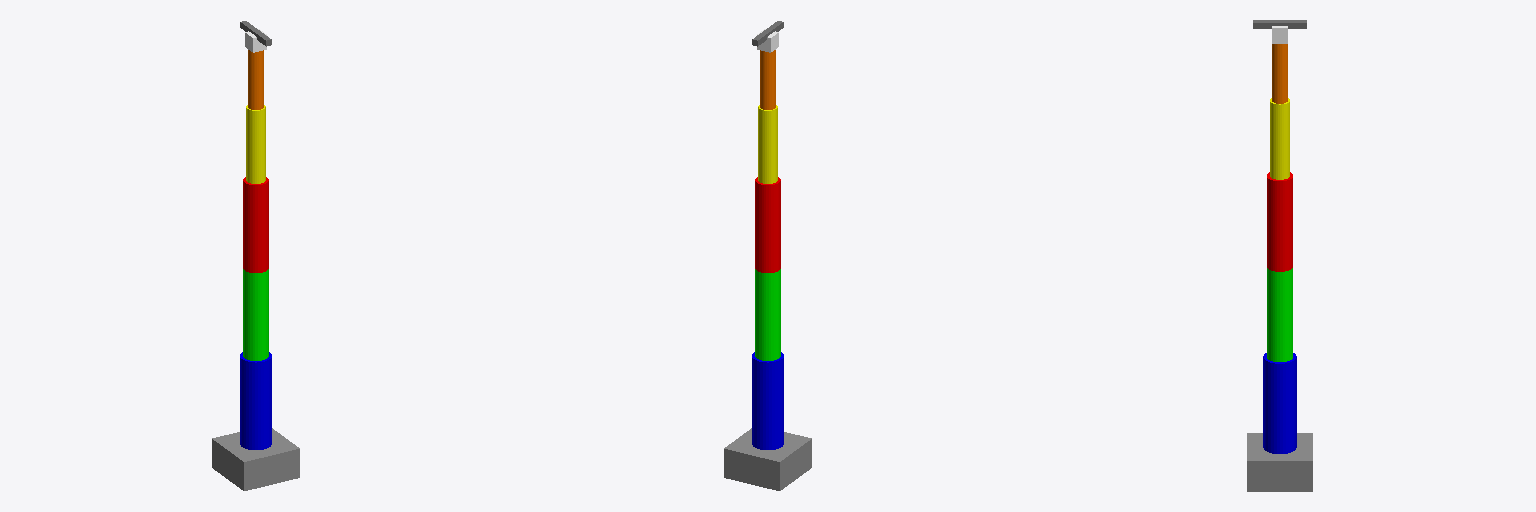
URDF robot description (six_dof_arm):
<?xml version="1.0"?>
<robot name="six_dof_arm">

  <!-- Base link -->
  <link name="base_link">
    <visual>
      <origin xyz="0 0 0.05"/>
      <geometry><box size="0.2 0.2 0.1"/></geometry>
      <material name="grey"><color rgba="0.6 0.6 0.6 1.0"/></material>
    </visual>
    <collision>
      <origin xyz="0 0 0.05"/>
      <geometry><box size="0.2 0.2 0.1"/></geometry>
    </collision>
    <inertial><mass value="1.0"/><inertia ixx="0.01" iyy="0.01" izz="0.01" ixy="0" ixz="0" iyz="0"/></inertial>
  </link>

  <!-- Joint 1: Prismatic -->
  <joint name="joint1_prismatic" type="prismatic">
    <parent link="base_link"/>
    <child link="link1"/>
    <axis xyz="0 0 1"/>
    <limit lower="0.0" upper="0.5" effort="10.0" velocity="0.2"/>
    <origin xyz="0 0 0.1"/>
  </joint>

  <link name="link1">
    <visual>
      <origin xyz="0 0 0.15"/>
      <geometry><cylinder radius="0.05" length="0.3"/></geometry>
      <material name="blue"><color rgba="0 0 1 1"/></material>
    </visual>
    <collision>
      <origin xyz="0 0 0.15"/>
      <geometry><cylinder radius="0.05" length="0.3"/></geometry>
    </collision>
    <inertial><mass value="0.5"/><inertia ixx="0.01" iyy="0.01" izz="0.01" ixy="0" ixz="0" iyz="0"/></inertial>
  </link>

  <!-- Joint 2 -->
  <joint name="joint2_revolute" type="revolute">
    <parent link="link1"/>
    <child link="link2"/>
    <axis xyz="0 1 0"/>
    <limit lower="-1.57" upper="1.57" effort="5.0" velocity="1.0"/>
    <origin xyz="0 0 0.3"/>
  </joint>

  <link name="link2">
    <visual>
      <origin xyz="0 0 0.15"/>
      <geometry><cylinder radius="0.04" length="0.3"/></geometry>
      <material name="green"><color rgba="0 1 0 1"/></material>
    </visual>
    <collision>
      <origin xyz="0 0 0.15"/>
      <geometry><cylinder radius="0.04" length="0.3"/></geometry>
    </collision>
    <inertial><mass value="0.4"/><inertia ixx="0.01" iyy="0.01" izz="0.01" ixy="0" ixz="0" iyz="0"/></inertial>
  </link>

  <!-- Joint 3 -->
  <joint name="joint3" type="revolute">
    <parent link="link2"/>
    <child link="link3"/>
    <axis xyz="0 1 0"/>
    <limit lower="-1.57" upper="1.57" effort="5.0" velocity="1.0"/>
    <origin xyz="0 0 0.3"/>
  </joint>

  <link name="link3">
    <visual>
      <origin xyz="0 0 0.15"/>
      <geometry><cylinder radius="0.04" length="0.3"/></geometry>
      <material name="red"><color rgba="1 0 0 1"/></material>
    </visual>
    <collision>
      <origin xyz="0 0 0.15"/>
      <geometry><cylinder radius="0.04" length="0.3"/></geometry>
    </collision>
    <inertial><mass value="0.4"/><inertia ixx="0.01" iyy="0.01" izz="0.01" ixy="0" ixz="0" iyz="0"/></inertial>
  </link>

  <!-- Joint 4 -->
  <joint name="joint4" type="revolute">
    <parent link="link3"/>
    <child link="link4"/>
    <axis xyz="1 0 0"/>
    <limit lower="-1.57" upper="1.57" effort="5.0" velocity="1.0"/>
    <origin xyz="0 0 0.3"/>
  </joint>

  <link name="link4">
    <visual>
      <origin xyz="0 0 0.125"/>
      <geometry><cylinder radius="0.03" length="0.25"/></geometry>
      <material name="yellow"><color rgba="1 1 0 1"/></material>
    </visual>
    <collision>
      <origin xyz="0 0 0.125"/>
      <geometry><cylinder radius="0.03" length="0.25"/></geometry>
    </collision>
    <inertial><mass value="0.3"/><inertia ixx="0.01" iyy="0.01" izz="0.01" ixy="0" ixz="0" iyz="0"/></inertial>
  </link>

  <!-- Joint 5 -->
  <joint name="joint5" type="revolute">
    <parent link="link4"/>
    <child link="link5"/>
    <axis xyz="0 1 0"/>
    <limit lower="-1.57" upper="1.57" effort="5.0" velocity="1.0"/>
    <origin xyz="0 0 0.25"/>
  </joint>

  <link name="link5">
    <visual>
      <origin xyz="0 0 0.1"/>
      <geometry><cylinder radius="0.025" length="0.2"/></geometry>
      <material name="orange"><color rgba="1 0.5 0 1"/></material>
    </visual>
    <collision>
      <origin xyz="0 0 0.1"/>
      <geometry><cylinder radius="0.025" length="0.2"/></geometry>
    </collision>
    <inertial><mass value="0.2"/><inertia ixx="0.01" iyy="0.01" izz="0.01" ixy="0" ixz="0" iyz="0"/></inertial>
  </link>

  <!-- Joint 6 -->
  <joint name="joint6" type="revolute">
    <parent link="link5"/>
    <child link="ee_base"/>
    <axis xyz="0 0 1"/>
    <limit lower="-3.14" upper="3.14" effort="5.0" velocity="1.0"/>
    <origin xyz="0 0 0.2"/>
  </joint>

  <link name="ee_base">
    <visual>
      <origin xyz="0 0 0.025"/>
      <geometry><box size="0.05 0.05 0.05"/></geometry>
      <material name="white"><color rgba="1 1 1 1"/></material>
    </visual>
    <collision>
      <origin xyz="0 0 0.025"/>
      <geometry><box size="0.05 0.05 0.05"/></geometry>
    </collision>
    <inertial><mass value="0.1"/><inertia ixx="0.01" iyy="0.01" izz="0.01" ixy="0" ixz="0" iyz="0"/></inertial>
  </link>

  <!-- Gripper fingers -->
  <joint name="left_finger_joint" type="prismatic">
    <parent link="ee_base"/>
    <child link="left_finger"/>
    <axis xyz="1 0 0"/>
    <limit lower="0.0" upper="0.04" effort="2.0" velocity="0.02"/>
    <origin xyz="0 0.03 0"/>
  </joint>

  <link name="left_finger">
    <visual>
      <origin xyz="0 0 0.05"/>
      <geometry><box size="0.02 0.1 0.02"/></geometry>
      <material name="grey"><color rgba="0.5 0.5 0.5 1"/></material>
    </visual>
    <collision>
      <origin xyz="0 0 0.05"/>
      <geometry><box size="0.02 0.1 0.02"/></geometry>
    </collision>
    <inertial><mass value="0.05"/><inertia ixx="0.01" iyy="0.01" izz="0.01" ixy="0" ixz="0" iyz="0"/></inertial>
  </link>

  <joint name="right_finger_joint" type="prismatic">
    <parent link="ee_base"/>
    <child link="right_finger"/>
    <axis xyz="-1 0 0"/>
    <limit lower="0.0" upper="0.04" effort="2.0" velocity="0.02"/>
    <origin xyz="0 -0.03 0"/>
  </joint>

  <link name="right_finger">
    <visual>
      <origin xyz="0 0 0.05"/>
      <geometry><box size="0.02 0.1 0.02"/></geometry>
      <material name="grey"><color rgba="0.5 0.5 0.5 1"/></material>
    </visual>
    <collision>
      <origin xyz="0 0 0.05"/>
      <geometry><box size="0.02 0.1 0.02"/></geometry>
    </collision>
    <inertial><mass value="0.05"/><inertia ixx="0.01" iyy="0.01" izz="0.01" ixy="0" ixz="0" iyz="0"/></inertial>
  </link>

</robot>

--- Facts derived from the render (not from the file) ---
Views: 3 orthographic renders of the robot side by side, from view 1: azimuth 30°, elevation 25°; view 2: azimuth 150°, elevation 25°; view 3: azimuth 270°, elevation 25°.
Robot: six_dof_arm — 9 links, 8 joints (5 revolute, 3 prismatic); root link base_link; default pose: all joints at 0.
Visible links, largest first — view 1: base_link, link1, link3, link2, link4, link5; view 2: base_link, link1, link3, link2, link4, link5; view 3: base_link, link1, link3, link2, link4, link5.
Boxes of the visible links, <box> form: base_link: <box>212,428,299,490</box>; link1: <box>240,352,271,449</box>; link3: <box>243,177,268,272</box>; link2: <box>243,269,268,360</box>; link4: <box>246,105,265,183</box>; link5: <box>248,50,263,109</box>; base_link: <box>724,428,811,490</box>; link1: <box>752,352,783,449</box>; link3: <box>755,177,780,272</box>; link2: <box>755,269,780,360</box>; link4: <box>758,105,777,183</box>; link5: <box>760,50,775,109</box>; base_link: <box>1247,433,1312,491</box>; link1: <box>1263,353,1296,453</box>; link3: <box>1267,172,1292,271</box>; link2: <box>1267,268,1292,361</box>; link4: <box>1270,98,1289,179</box>; link5: <box>1272,44,1287,103</box>.
Bounding box of the posed robot: 0.2 × 0.2 × 1.51 m (x, y, z).
Geometry: primitives only (box / cylinder / sphere), no mesh files.
